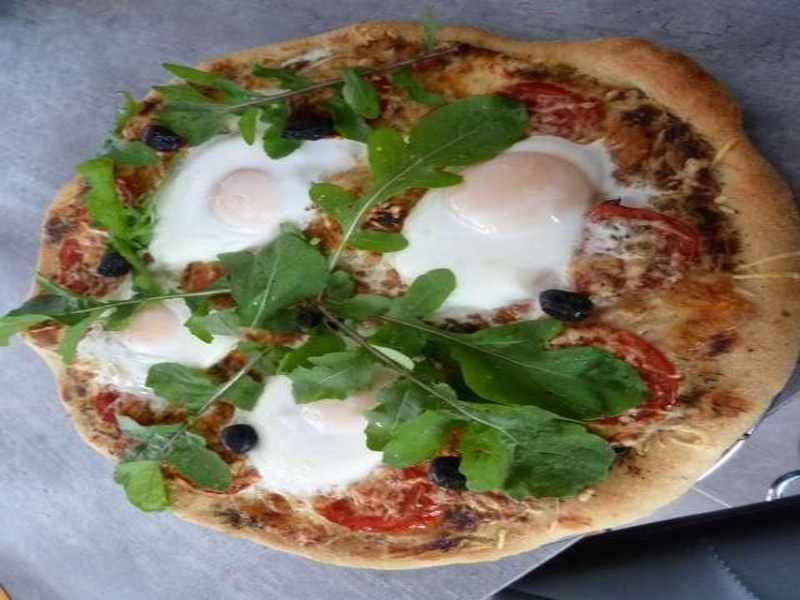oeuf: (445, 152, 593, 259), (197, 158, 293, 239)
